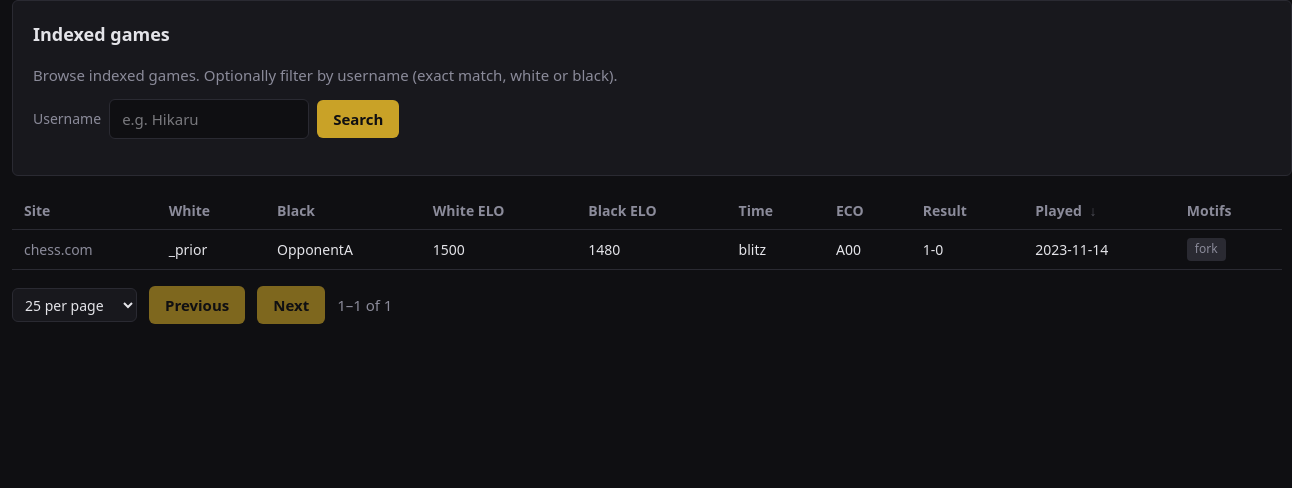
Test case: GamesView › opens game detail panel when a row is clicked
Expected: the button "_prior" is shown, top-left (169, 239), bottom-right (207, 260)
Click the row that starts with "chess.com".
click(647, 249)  # box top-left (12, 230), bottom-right (1282, 269)
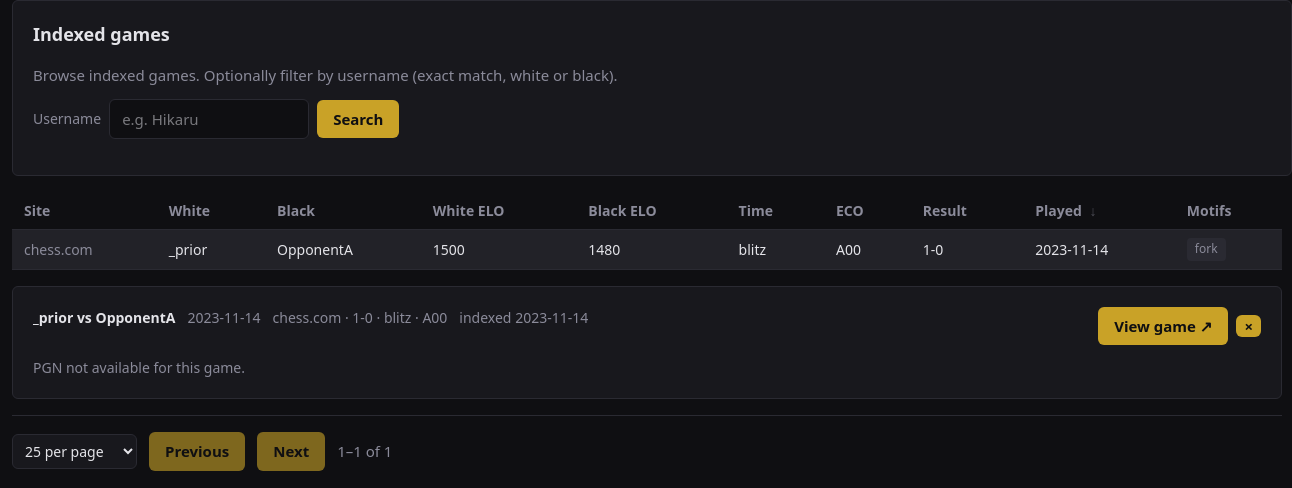
Now the text "_prior vs OpponentA" is shown, box top-left (33, 308), bottom-right (175, 327)
